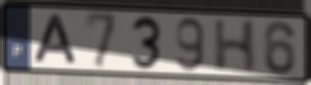3: (129, 14, 163, 71)
6: (262, 19, 297, 76)
7: (84, 10, 118, 72)
9: (175, 16, 207, 73)
A: (33, 13, 80, 66)
H: (212, 18, 259, 74)
